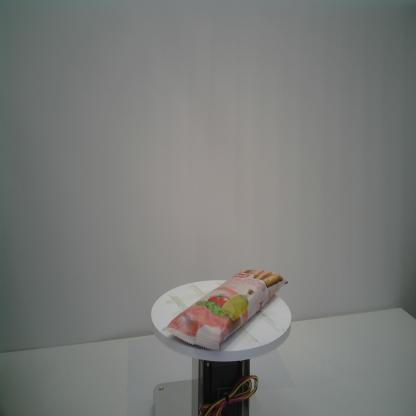Dessert: (160, 266, 290, 352)
